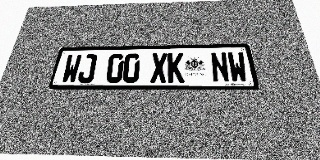0: (105, 54, 125, 83), (122, 53, 140, 83)
J: (77, 54, 97, 83)
K: (168, 53, 184, 83)
N: (210, 52, 230, 83)
W: (227, 52, 249, 83), (61, 54, 82, 83)
X: (150, 53, 167, 83)
